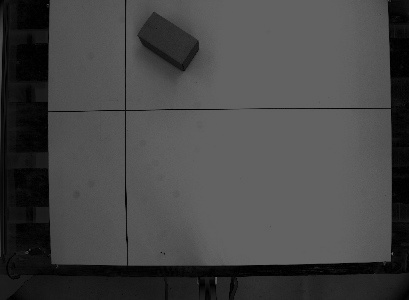b2: (135, 10, 202, 73)
